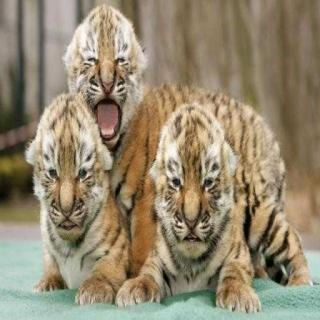Tiger: (133, 100, 303, 316), (16, 85, 129, 308), (53, 0, 165, 150)
